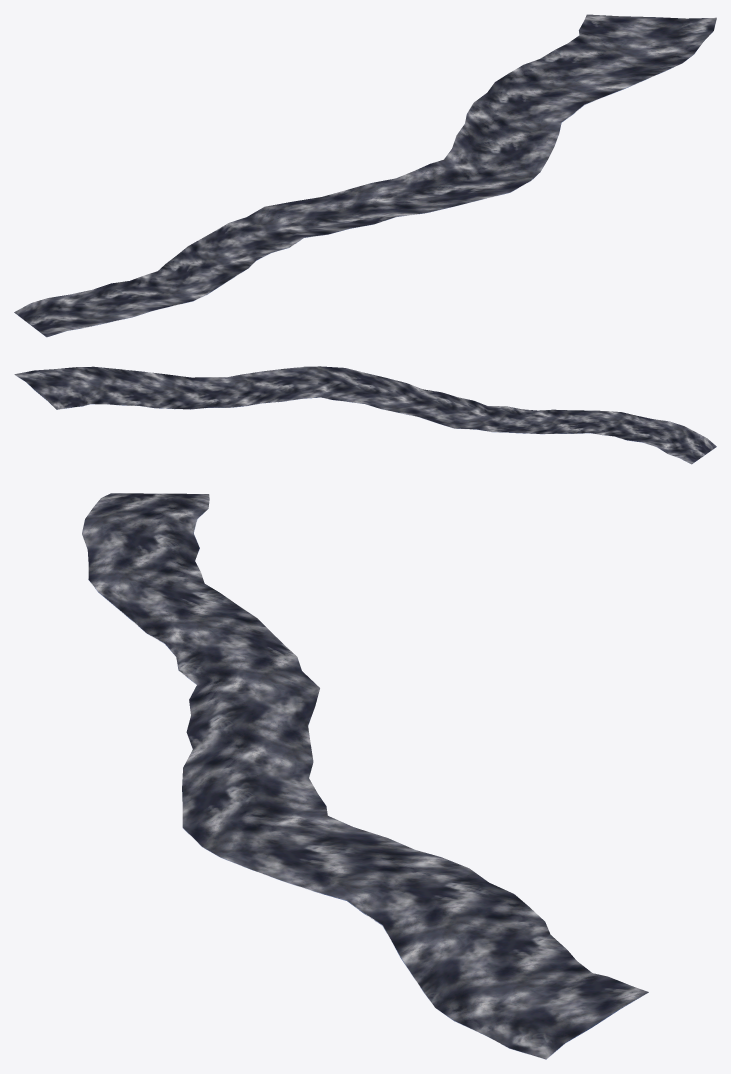
Rendered from EKH_THRONE_PS_TH_WATER37364.fbx.
3 renders of one model, top to bottom at view 1: azimuth 30°, elevation 25°; view 2: azimuth 150°, elevation 25°; view 3: azimuth 270°, elevation 25°, orthographic. The views are drawn at different scales.
Visible parts, largest first — view 1: EKH_THRONE_PS_TH_WATER37364; view 2: EKH_THRONE_PS_TH_WATER37364; view 3: EKH_THRONE_PS_TH_WATER37364.
Boxes of the visible parts, box(x1,y1,x2,y2) form: EKH_THRONE_PS_TH_WATER37364: box(14, 14, 716, 337); EKH_THRONE_PS_TH_WATER37364: box(14, 366, 716, 464); EKH_THRONE_PS_TH_WATER37364: box(82, 493, 648, 1059).
Bounding box in the file's own units: 467855 × 5567 × 193397.
Materials: 2 (2 with a texture image).
